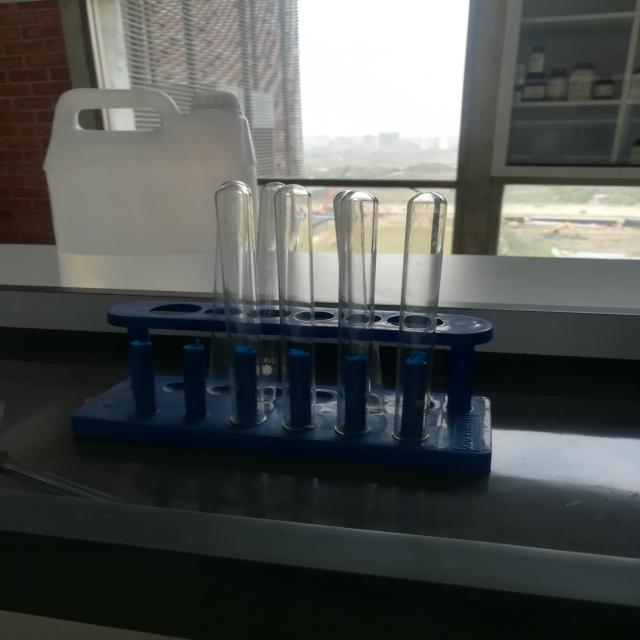Test_Tube: (170, 142, 482, 476)
